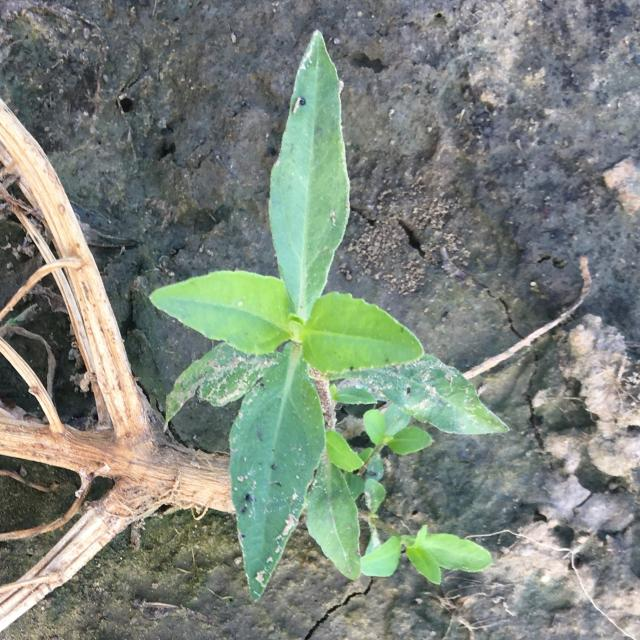Eclipta: (149, 29, 510, 604)
